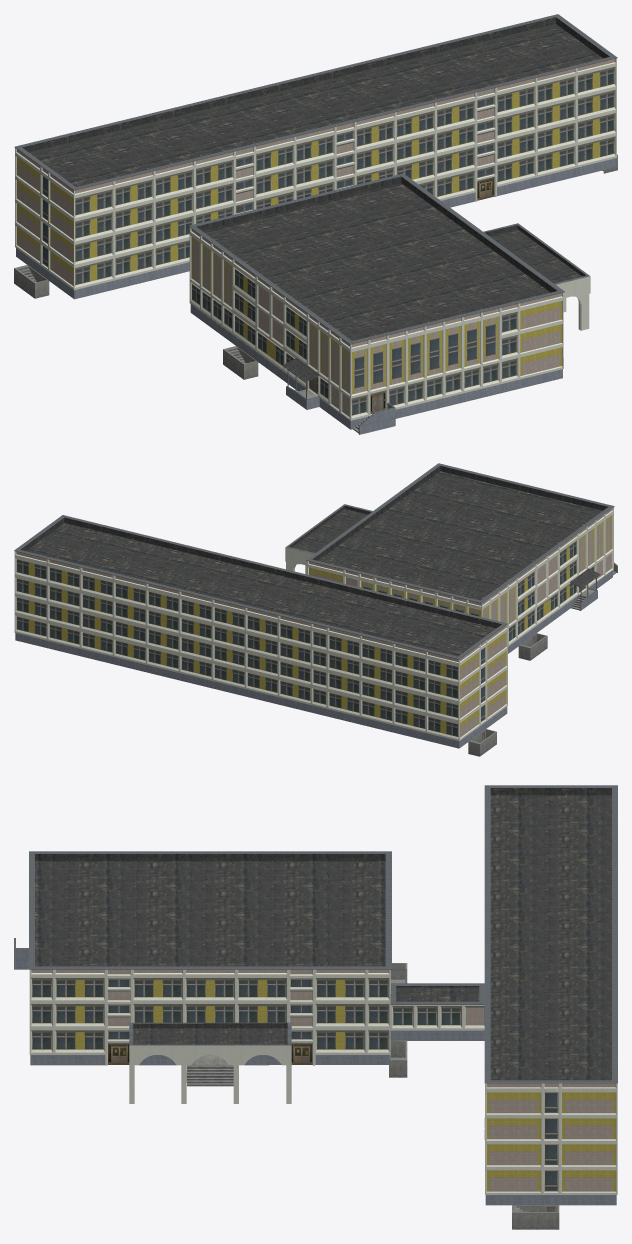
The picture shows the model from 3 angles, top to bottom: view 1: azimuth 30°, elevation 25°; view 2: azimuth 150°, elevation 25°; view 3: azimuth 270°, elevation 25°; orthographic projection. The views are drawn at different scales.
Parts seen in each view (by area): view 1: sch_1195_vol2.037; view 2: sch_1195_vol2.037; view 3: sch_1195_vol2.037.
Boxes of the visible parts, <box> form: sch_1195_vol2.037: <box>14,14,617,434</box>; sch_1195_vol2.037: <box>14,463,617,756</box>; sch_1195_vol2.037: <box>14,785,617,1229</box>.
Size of the model in its own units: 76.83 by 16.1 by 62.96.
Materials: 38 (38 with a texture image).
